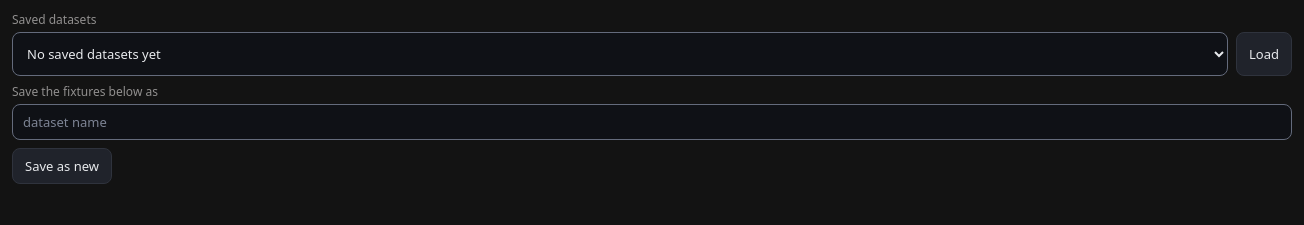
DatasetPicker › refuses to save without a name
This screenshot has width=1304, height=225.
Check: the dropdown named "Saved dataset" is shown, box left=12, top=32, right=1228, bottom=76
Click the button "Save as new" at (62, 166), box left=12, top=148, right=112, bottom=184
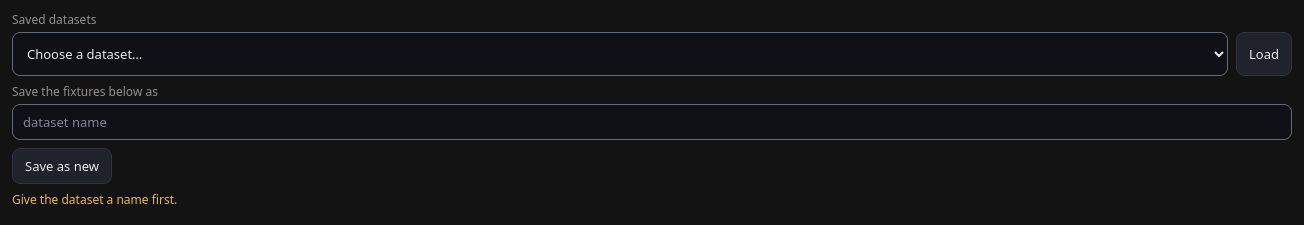
Check: the message reads "Give the dataset a name first.", box left=12, top=191, right=177, bottom=208
